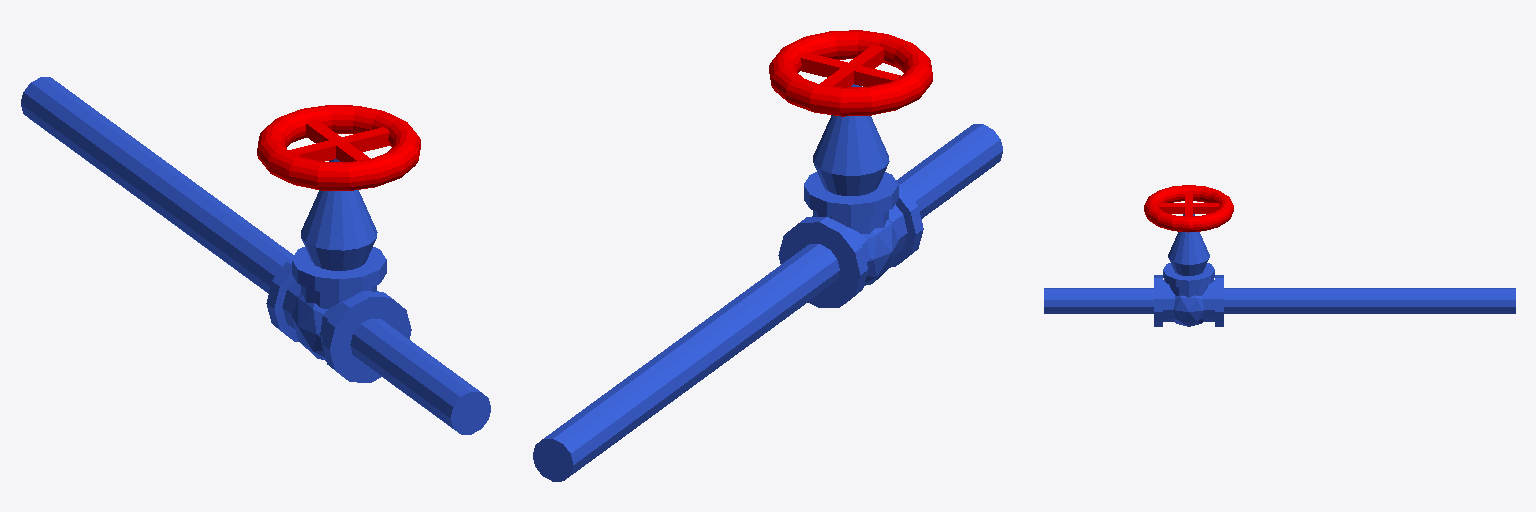
URDF robot description (DRCTestbedValve):
<?xml version="1.0"?>
<robot name="DRCTestbedValve"
       xmlns:xi="http://www.w3.org/2001/XInclude"
       >
  <gazebo>
    <static>false</static>
  </gazebo>
  <link name="CRANK-ROOT-LINK_link">
    <visual>
      <origin xyz="0 0 0" rpy="0 -0 0"/>
      <geometry>
        <mesh filename="model://DRCTestbedValve/meshes/CRANK-ROOT-LINK_link_mesh.dae" scale="1 1 1" />
      </geometry>
    </visual>
    <collision>
      <origin xyz="0 0 0" rpy="0 -0 0"/>
      <geometry>
        <mesh filename="model://DRCTestbedValve/meshes/CRANK-ROOT-LINK_link_mesh.dae" scale="1 1 1" />
      </geometry>
    </collision>
    <inertial>
      <mass value="0.001" />
      <origin xyz="0 0 0" rpy="0 -0 0"/>
      <inertia ixx="1e-03" ixy="0" ixz="0" iyy="1e-03" iyz="0" izz="1e-03"/>
    </inertial>
  </link>
  <gazebo reference="CRANK-ROOT-LINK_link">
    <mu1>0.9</mu1>
    <mu2>0.9</mu2>
  </gazebo>
  <link name="VALVE-HANDLE-LINK_link">
    <visual>
      <origin xyz="-3.36204e-18 6.31089e-33 0.353" rpy="0 0 -5.55112e-17"/>
      <geometry>
        <mesh filename="model://DRCTestbedValve/meshes/VALVE-HANDLE-LINK_link_mesh.dae" scale="1 1 1" />
      </geometry>
    </visual>
    <collision>
      <origin xyz="-3.36204e-18 6.31089e-33 0.353" rpy="0 0 -5.55112e-17"/>
      <geometry>
        <mesh filename="model://DRCTestbedValve/meshes/VALVE-HANDLE-LINK_link_mesh.dae" scale="1 1 1" />
      </geometry>
    </collision>
    <inertial>
      <mass value="0.001" />
      <origin xyz="0 0 0" rpy="0 -0 0"/>
      <inertia ixx="1e-09" ixy="-4.16267e-58" ixz="6.37237e-58" iyy="1e-09" iyz="0" izz="1e-09"/>
    </inertial>
  </link>
  <gazebo reference="VALVE-HANDLE-LINK_link">
    <mu1>0.9</mu1>
    <mu2>0.9</mu2>
  </gazebo>
  <joint name="CRANK-JOINT" type="revolute">
    <parent link="CRANK-ROOT-LINK_link"/>
    <child  link="VALVE-HANDLE-LINK_link"/>
    <origin xyz="-3.36204e-18 6.31089e-33 0.353" rpy="0 0 -5.55112e-17 "/>
    <axis   xyz="0 0 1"/>
    <limit lower="-62.8319" upper="62.8319" effort="100" velocity="0.5" />
    <dynamics damping="0.2" friction="0" />
  </joint>
  <transmission type="pr2_mechanism_model/SimpleTransmission" name="CRANK-JOINT_trans" >
    <actuator name="CRANK-JOINT_motor" />
    <joint name="CRANK-JOINT" />
    <mechanicalReduction>1</mechanicalReduction>
  </transmission>
  <gazebo reference="CRANK-JOINT">
    <cfmDamping>0.4</cfmDamping>
  </gazebo>
</robot>

--- Facts derived from the render (not from the file) ---
The picture shows the robot from 3 angles, left to right: view 1: azimuth 30°, elevation 25°; view 2: azimuth 150°, elevation 25°; view 3: azimuth 270°, elevation 25°; orthographic projection.
Robot: DRCTestbedValve — 2 links, 1 joints (1 revolute); root link CRANK-ROOT-LINK_link; default pose: all joints at 0.
Links seen in each view (by area): view 1: CRANK-ROOT-LINK_link, VALVE-HANDLE-LINK_link; view 2: CRANK-ROOT-LINK_link, VALVE-HANDLE-LINK_link; view 3: CRANK-ROOT-LINK_link, VALVE-HANDLE-LINK_link.
Boxes of the visible links, left/top/right/bottom form: CRANK-ROOT-LINK_link: left=21, top=77, right=490, bottom=434; VALVE-HANDLE-LINK_link: left=257, top=105, right=420, bottom=190; CRANK-ROOT-LINK_link: left=533, top=84, right=1002, bottom=481; VALVE-HANDLE-LINK_link: left=769, top=30, right=932, bottom=116; CRANK-ROOT-LINK_link: left=1044, top=214, right=1515, bottom=326; VALVE-HANDLE-LINK_link: left=1144, top=185, right=1233, bottom=232.
Size in the robot's own frame: 0.315 by 1.63 by 0.4705 metres.
Meshes: 2 distinct files referenced, 2 mesh visuals loaded (2 Collada DAE).